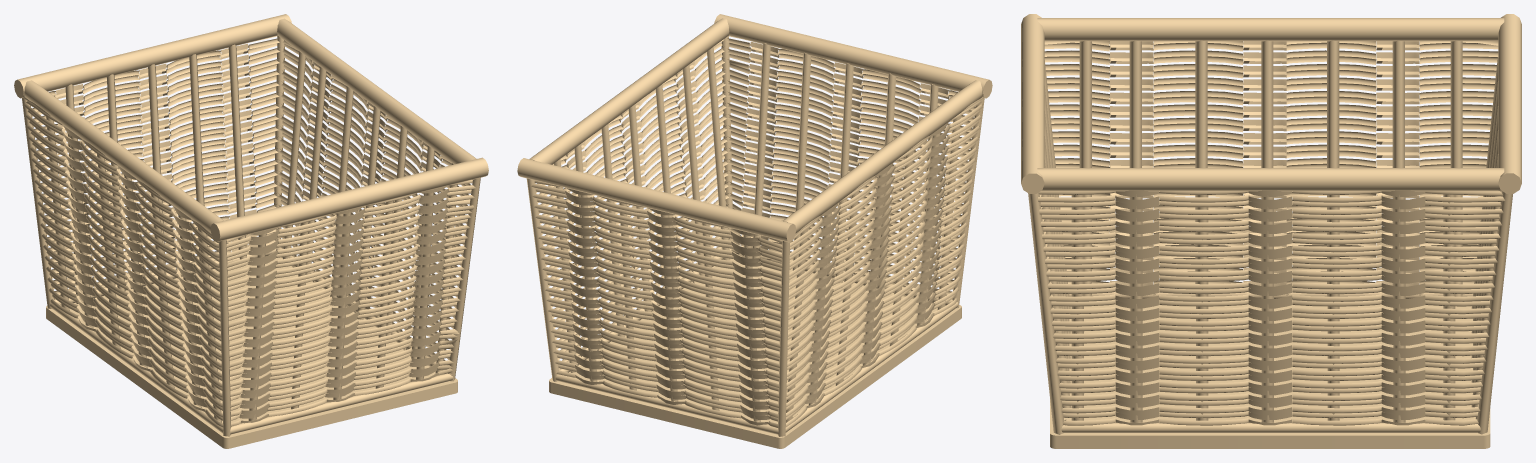
The model's file is basket.FBX.
The picture shows the model from 3 angles, left to right: view 1: azimuth 30°, elevation 25°; view 2: azimuth 150°, elevation 25°; view 3: azimuth 270°, elevation 25°; orthographic projection. The views are drawn at different scales.
Visible parts, largest first — view 1: Cilindro17; view 2: Cilindro17; view 3: Cilindro17.
Boxes of the visible parts, <box> form: Cilindro17: <box>14,14,488,448</box>; Cilindro17: <box>517,14,992,448</box>; Cilindro17: <box>1021,14,1521,448</box>.
Size of the model in its own units: 25.54 by 21.31 by 33.88.
